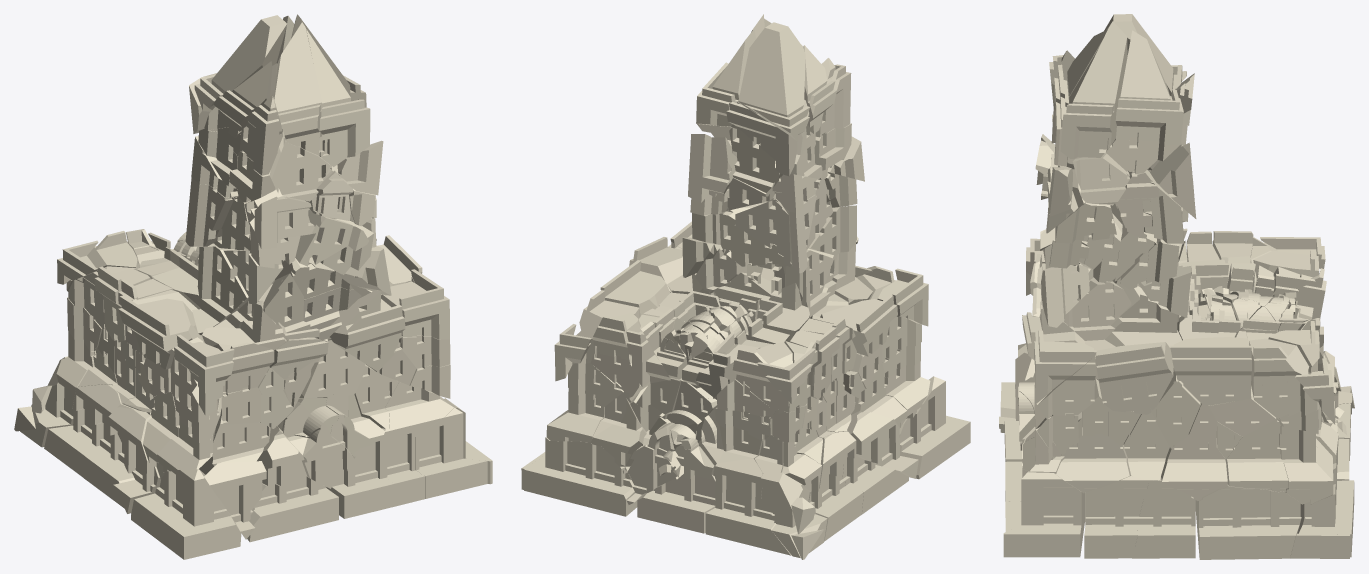
Rendered from Heavy_Commercial2-broken.fbx.
The picture shows the model from 3 angles, left to right: view 1: azimuth 30°, elevation 25°; view 2: azimuth 150°, elevation 25°; view 3: azimuth 270°, elevation 25°; orthographic projection. The views are drawn at different scales.
Parts seen in each view (by area): view 1: Heavy_Commercal_2_cell.132, Heavy_Commercal_2_cell.186, Heavy_Commercal_2_cell.119, Heavy_Commercal_2_cell.030, Heavy_Commercal_2_cell.026, Heavy_Commercal_2_cell.159, Heavy_Commercal_2_cell.085, Heavy_Commercal_2_cell.112, Heavy_Commercal_2_cell.113, Heavy_Commercal_2_cell.163, Heavy_Commercal_2_cell.096, Heavy_Commercal_2_cell.027 (+68 smaller); view 2: Heavy_Commercal_2_cell.085, Heavy_Commercal_2_cell.102, Heavy_Commercal_2_cell.132, Heavy_Commercal_2_cell.144, Heavy_Commercal_2_cell.138, Heavy_Commercal_2_cell.163, Heavy_Commercal_2_cell.167, Heavy_Commercal_2_cell.037, Heavy_Commercal_2_cell.012, Heavy_Commercal_2_cell.159, Heavy_Commercal_2_cell.114, Heavy_Commercal_2_cell.199 (+72 smaller); view 3: Heavy_Commercal_2_cell.193, Heavy_Commercal_2_cell.072, Heavy_Commercal_2_cell.128, Heavy_Commercal_2_cell.012, Heavy_Commercal_2_cell.029, Heavy_Commercal_2_cell.078, Heavy_Commercal_2_cell.170, Heavy_Commercal_2_cell.120, Heavy_Commercal_2_cell.060, Heavy_Commercal_2_cell.131, Heavy_Commercal_2_cell.081, Heavy_Commercal_2_cell.197 (+61 smaller).
Part boxes in pixels (x1,y1,x2,y2): Heavy_Commercal_2_cell.132: (131,469,241,559); Heavy_Commercal_2_cell.186: (274,22,321,155); Heavy_Commercal_2_cell.119: (415,407,487,498); Heavy_Commercal_2_cell.030: (247,476,338,542); Heavy_Commercal_2_cell.026: (329,290,405,370); Heavy_Commercal_2_cell.159: (118,295,204,369); Heavy_Commercal_2_cell.085: (194,15,286,111); Heavy_Commercal_2_cell.112: (192,246,248,335); Heavy_Commercal_2_cell.113: (381,269,449,339); Heavy_Commercal_2_cell.163: (108,407,160,513); Heavy_Commercal_2_cell.096: (326,447,411,518); Heavy_Commercal_2_cell.027: (204,461,266,539); Heavy_Commercal_2_cell.085: (738,22,810,141); Heavy_Commercal_2_cell.102: (549,441,643,516); Heavy_Commercal_2_cell.132: (899,376,970,479); Heavy_Commercal_2_cell.144: (637,474,715,533); Heavy_Commercal_2_cell.138: (705,489,791,555); Heavy_Commercal_2_cell.163: (846,411,918,478); Heavy_Commercal_2_cell.167: (688,134,737,202); Heavy_Commercal_2_cell.037: (760,472,827,558); Heavy_Commercal_2_cell.012: (696,29,755,126); Heavy_Commercal_2_cell.159: (820,294,897,356); Heavy_Commercal_2_cell.114: (732,342,792,413); Heavy_Commercal_2_cell.199: (726,102,797,176); Heavy_Commercal_2_cell.193: (1195,484,1301,559); Heavy_Commercal_2_cell.072: (1003,472,1084,557); Heavy_Commercal_2_cell.128: (1060,21,1127,158); Heavy_Commercal_2_cell.012: (1115,30,1183,145); Heavy_Commercal_2_cell.029: (1170,337,1251,405); Heavy_Commercal_2_cell.078: (1095,342,1173,414); Heavy_Commercal_2_cell.170: (1084,475,1148,558); Heavy_Commercal_2_cell.120: (1132,477,1195,558); Heavy_Commercal_2_cell.060: (1249,338,1317,419); Heavy_Commercal_2_cell.131: (1225,418,1288,491); Heavy_Commercal_2_cell.081: (1279,426,1333,504); Heavy_Commercal_2_cell.197: (1056,418,1130,493).
Size of the model in its own units: 4325 by 6089 by 4205.
